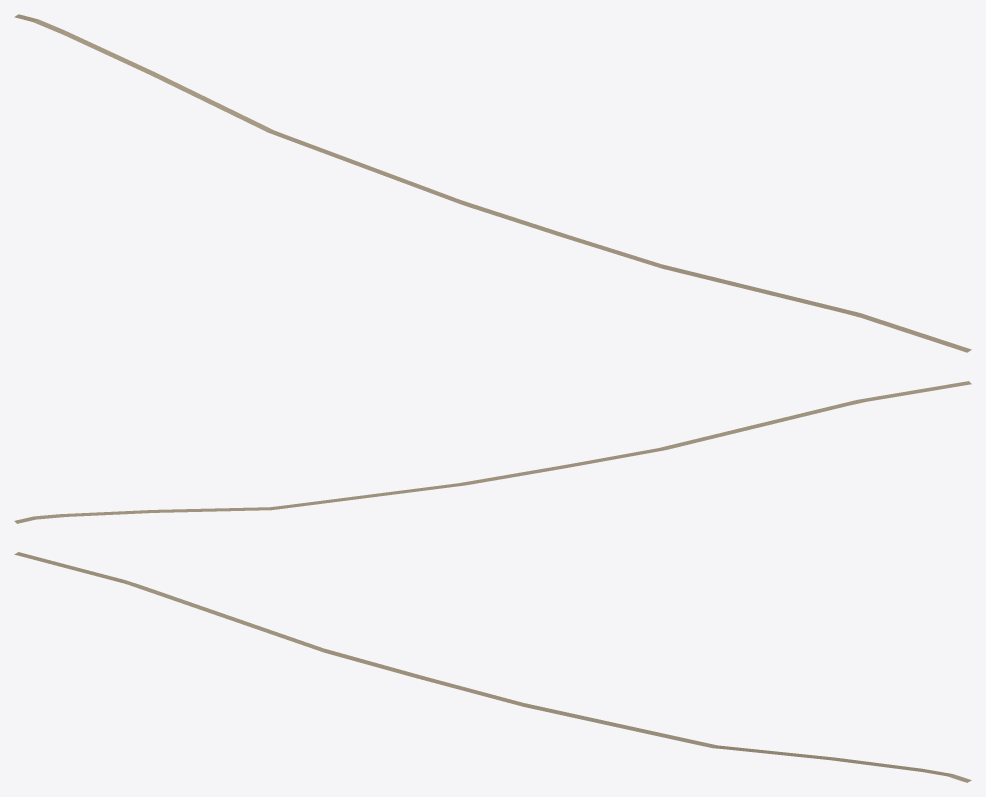
File: farm_-15_-25_track.glb
3 views of the same model, one above another, from view 1: azimuth 90°, elevation 25°; view 2: azimuth 150°, elevation 25°; view 3: azimuth 270°, elevation 25° (orthographic). The views are drawn at different scales.
Visible parts, largest first — view 1: geometry_0; view 2: geometry_0; view 3: geometry_0.
Part boxes in pixels (box(x1,y1,x2,y2)): geometry_0: box(14, 14, 971, 352); geometry_0: box(14, 381, 971, 523); geometry_0: box(14, 552, 971, 782).
Bounding box in the file's own units: 270 × 26.84 × 384.
